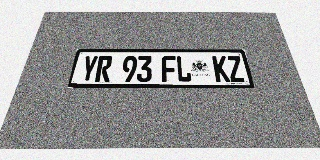3: (136, 56, 152, 82)
9: (121, 56, 137, 82)
F: (162, 56, 177, 82)
K: (212, 56, 230, 82)
L: (176, 56, 192, 82)
R: (94, 56, 113, 82)
Y: (79, 56, 98, 82)
Z: (226, 56, 245, 82)
